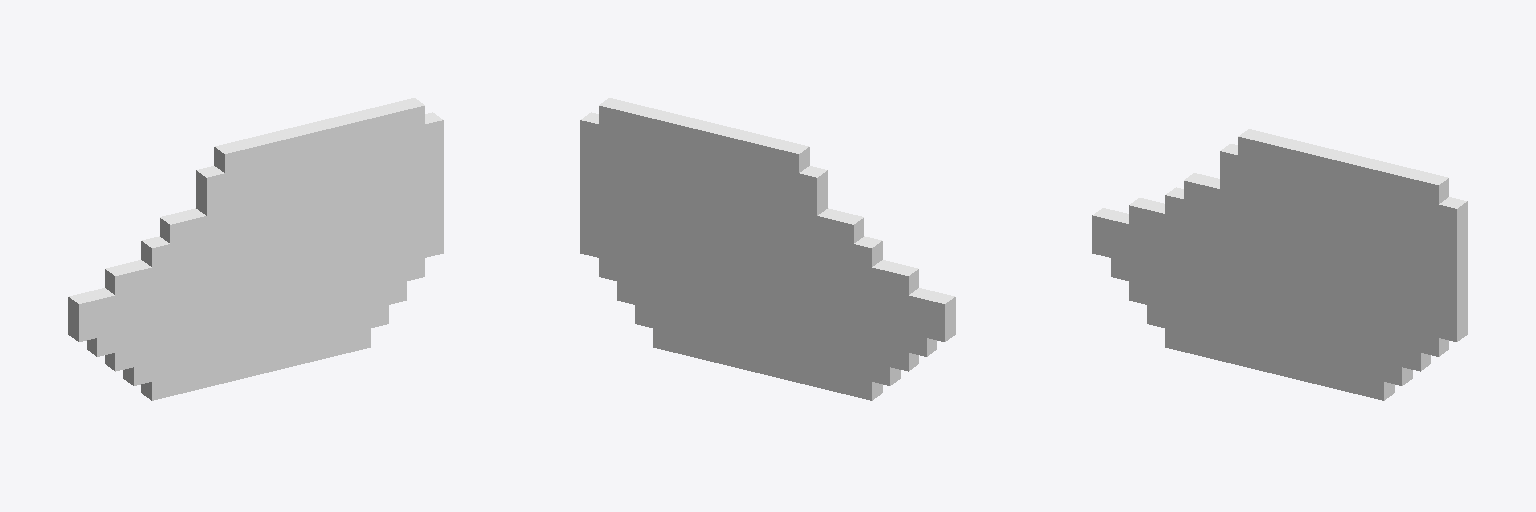
The model's file is soul_4.obj.
The picture shows the model from 3 angles: view 1: azimuth 30°, elevation 25°; view 2: azimuth 150°, elevation 25°; view 3: azimuth 330°, elevation 25°; orthographic projection.
Visible parts, largest first — view 1: object 1; view 2: object 1; view 3: object 1.
Part boxes in pixels (x1,y1,x2,y2): object 1: (68, 98, 443, 400); object 1: (580, 98, 955, 400); object 1: (1092, 129, 1467, 400).
Bounding box in the file's own units: 2 × 1.2 × 0.1.